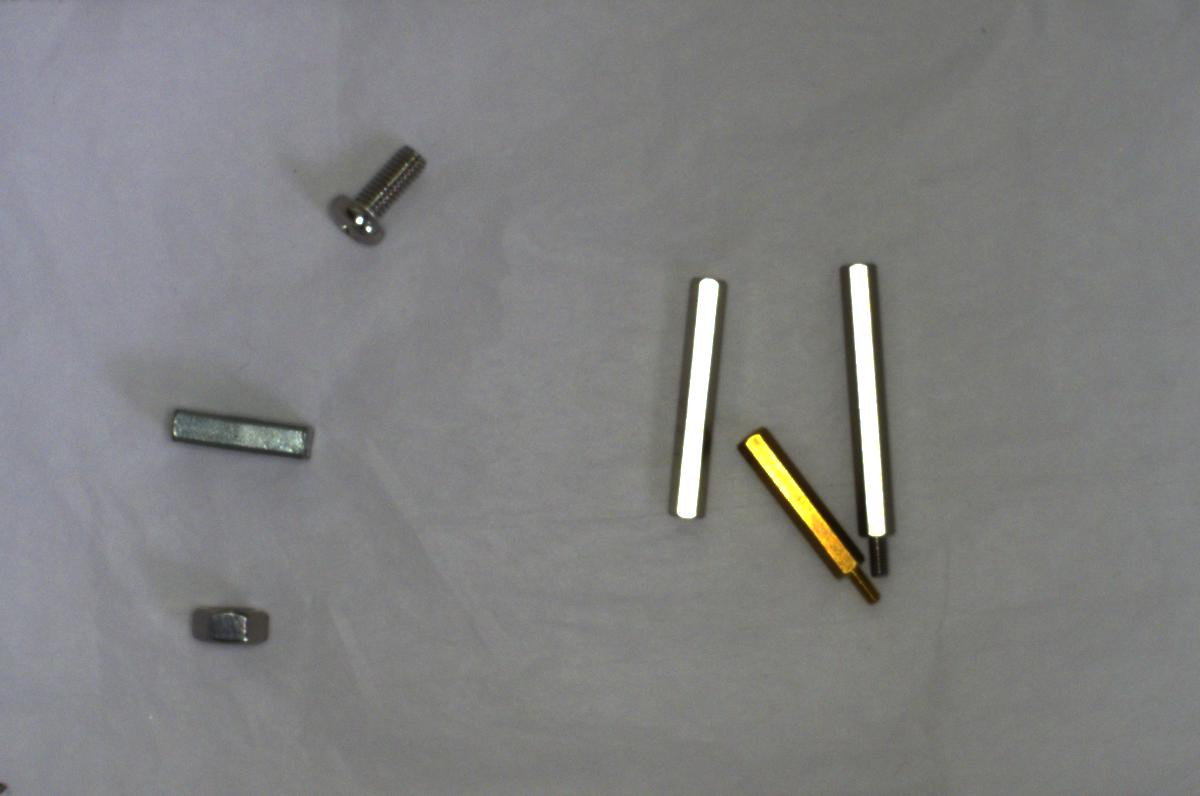Double hexagonal column: (664, 267, 726, 527)
Hexagon nut: (185, 594, 272, 653)
Hexagon pillar: (732, 421, 882, 603)
Hexagonal steel column: (824, 253, 907, 586)
Rectangular nut: (164, 399, 317, 470)
Round head screw: (319, 132, 435, 248)
